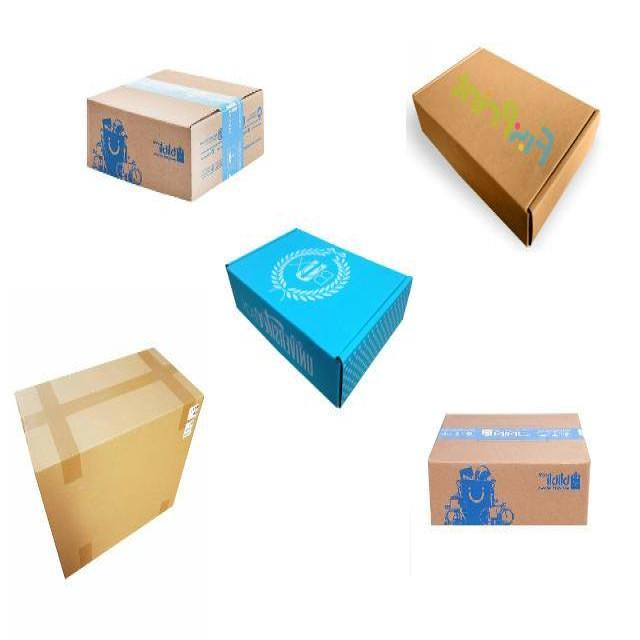Cardboard: (13, 346, 203, 584), (412, 47, 601, 241), (228, 225, 411, 409), (86, 66, 262, 202), (427, 411, 590, 524)
